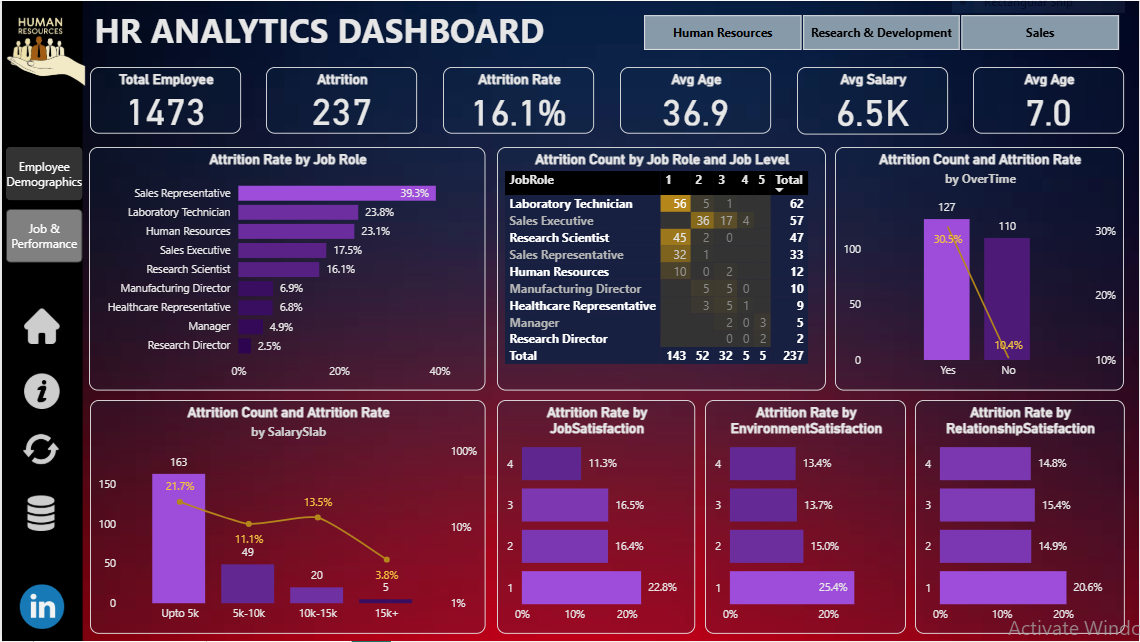

The page's visual inventory and layout, read from the dashboard file:
{"tool":"powerbi","page":{"name":"Job & Performance","canvas":[1280,720],"ordinal":1},"visuals":[{"type":"card","title":"Total Employee","fields":{"Values":["CountNonNull(HR_Analytics.EmployeeCount)"]},"box":[98.7,74.6,169.9,74.6],"z":0},{"type":"card","title":"Attrition","fields":{"Values":["Sum(HR_Analytics.AttritionCount)"]},"box":[297.5,74.6,169.9,74.6],"z":1000},{"type":"card","title":"Attrition Rate","fields":{"Values":["HR_Analytics.AttritionRate"]},"box":[496.3,74.6,170,75.4],"z":2000},{"type":"card","title":"Avg Age","fields":{"Values":["Avg(HR_Analytics.Age)"]},"box":[695.1,74.6,170,75.4],"z":3000},{"type":"card","title":"Avg Age","fields":{"Values":["Avg(HR_Analytics.YearsAtCompany)"]},"box":[1092.9,74.6,170,75],"z":4000},{"type":"card","title":"Avg Salary","fields":{"Values":["Avg(HR_Analytics.MonthlyIncome)"]},"box":[894,74.6,170,75.8],"z":5000},{"type":"textbox","box":[98.7,2.3,535,66.6],"z":6000},{"type":"clusteredBarChart","title":"Attrition Rate by Job Role","fields":{"Category":["HR_Analytics.JobRole"],"Y":["HR_Analytics.AttritionRate"]},"box":[98.2,164.5,446.2,274.1],"z":7000},{"type":"pivotTable","title":"Attrition Count by Job Role and Job Level","fields":{"Columns":["HR_Analytics.JobLevel"],"Rows":["HR_Analytics.JobRole"],"Values":["Sum(HR_Analytics.AttritionCount)"]},"box":[556.7,163.9,369.8,273.6],"z":8000},{"type":"lineStackedColumnComboChart","title":"Attrition Count and Attrition Rate ","fields":{"Category":["HR_Analytics.SalarySlab"],"Y":["Sum(HR_Analytics.AttritionCount)"],"Y2":["HR_Analytics.AttritionRate"]},"box":[99.4,448.8,444.9,262.6],"z":9000},{"type":"lineStackedColumnComboChart","title":"Attrition Count and Attrition Rate ","fields":{"Category":["HR_Analytics.OverTime"],"Y2":["HR_Analytics.AttritionRate"],"Y":["Sum(HR_Analytics.AttritionCount)"]},"box":[937.3,163.9,325.1,273.6],"z":10000},{"type":"clusteredBarChart","title":"Attrition Rate by JobSatisfaction","fields":{"Category":["HR_Analytics.JobSatisfaction"],"Y":["HR_Analytics.AttritionRate"]},"box":[556.7,448.3,223.5,262.8],"z":11000},{"type":"clusteredBarChart","title":"Attrition Rate by EnvironmentSatisfaction","fields":{"Category":["HR_Analytics.EnvironmentSatisfaction"],"Y":["HR_Analytics.AttritionRate"]},"box":[791,448.3,226.2,262.8],"z":12000},{"type":"clusteredBarChart","title":"Attrition Rate by RelationshipSatisfaction","fields":{"Y":["HR_Analytics.AttritionRate"],"Category":["HR_Analytics.RelationshipSatisfaction"]},"box":[1026.7,448.3,235.7,262.8],"z":13000},{"type":"shape","box":[0,0,90.8,720.6],"z":14000},{"type":"image","box":[0,0,98.9,112.4],"z":15000},{"type":"image","box":[16.8,341.3,55.5,50.1],"z":16000},{"type":"image","box":[16.8,414.5,55.5,50.1],"z":17000},{"type":"image","box":[16.8,479.5,54.2,50.1],"z":18000},{"type":"image","box":[16.8,551.3,54.2,50.1],"z":19000},{"type":"image","box":[0,651.5,90.8,59.6],"z":20000},{"type":"pageNavigator","box":[4.5,164.2,86.6,130.5],"z":21000},{"type":"slicer","fields":{"Values":["HR_Analytics.Department"]},"box":[696.2,8.6,583.8,53.1],"z":22000}]}

Visuals, with their boxes on the page's 1280x720 design canvas (x1, y1, x2, y2). These are canvas units, not pixel positions in the 1140x642 screenshot, which may show the page scaled, cropped or inside an application window:
"Total Employee" card: [x1=99, y1=75, x2=269, y2=149]
"Attrition" card: [x1=298, y1=75, x2=467, y2=149]
"Attrition Rate" card: [x1=496, y1=75, x2=666, y2=150]
"Avg Age" card: [x1=695, y1=75, x2=865, y2=150]
"Avg Age" card: [x1=1093, y1=75, x2=1263, y2=150]
"Avg Salary" card: [x1=894, y1=75, x2=1064, y2=150]
textbox: [x1=99, y1=2, x2=634, y2=69]
"Attrition Rate by Job Role" clusteredBarChart: [x1=98, y1=164, x2=544, y2=439]
"Attrition Count by Job Role and Job Level" pivotTable: [x1=557, y1=164, x2=926, y2=438]
"Attrition Count and Attrition Rate " lineStackedColumnComboChart: [x1=99, y1=449, x2=544, y2=711]
"Attrition Count and Attrition Rate " lineStackedColumnComboChart: [x1=937, y1=164, x2=1262, y2=438]
"Attrition Rate by JobSatisfaction" clusteredBarChart: [x1=557, y1=448, x2=780, y2=711]
"Attrition Rate by EnvironmentSatisfaction" clusteredBarChart: [x1=791, y1=448, x2=1017, y2=711]
"Attrition Rate by RelationshipSatisfaction" clusteredBarChart: [x1=1027, y1=448, x2=1262, y2=711]
shape: [x1=0, y1=0, x2=91, y2=721]
image: [x1=0, y1=0, x2=99, y2=112]
image: [x1=17, y1=341, x2=72, y2=391]
image: [x1=17, y1=414, x2=72, y2=465]
image: [x1=17, y1=480, x2=71, y2=530]
image: [x1=17, y1=551, x2=71, y2=601]
image: [x1=0, y1=652, x2=91, y2=711]
pageNavigator: [x1=4, y1=164, x2=91, y2=295]
slicer - HR_Analytics.Department: [x1=696, y1=9, x2=1280, y2=62]
